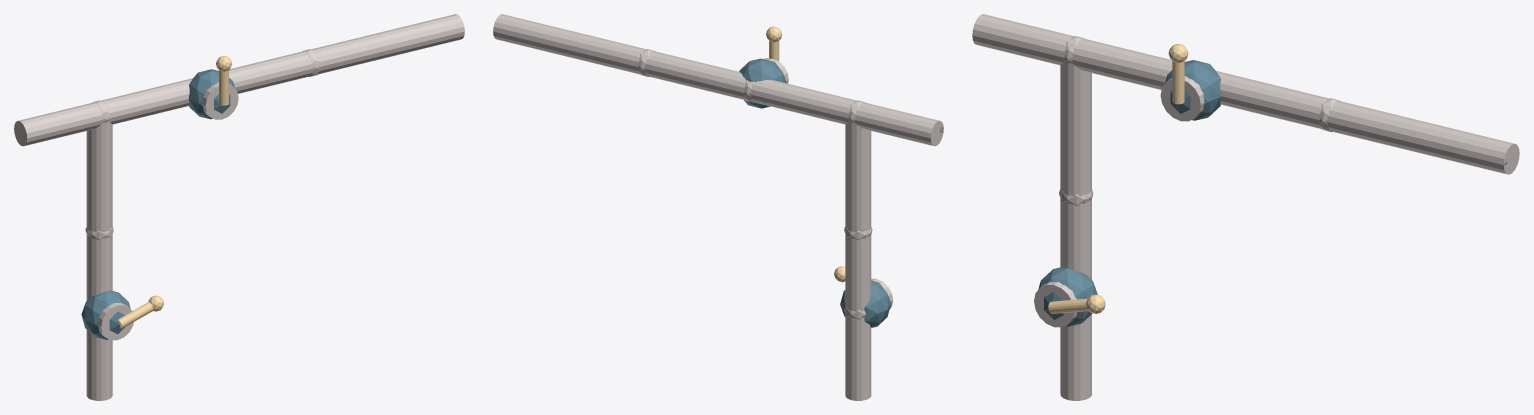
File: plant-01-0.glb
The picture shows the model from 3 angles, left to right: view 1: azimuth 30°, elevation 25°; view 2: azimuth 150°, elevation 25°; view 3: azimuth 330°, elevation 25°; orthographic projection. The views are drawn at different scales.
Parts seen in each view (by area): view 1: pipe, dark, handle; view 2: pipe, dark, handle; view 3: pipe, dark, handle.
Boxes of the visible parts, left/top/right/bottom form: pipe: left=14, top=14, right=464, bottom=400; dark: left=23, top=69, right=234, bottom=339; handle: left=118, top=56, right=231, bottom=328; pipe: left=493, top=14, right=943, bottom=400; dark: left=739, top=58, right=943, bottom=327; handle: left=766, top=26, right=845, bottom=282; pipe: left=972, top=14, right=1519, bottom=400; dark: left=1038, top=60, right=1507, bottom=326; handle: left=1048, top=43, right=1188, bottom=313.
Size of the model in its own units: 2.77 by 1.99 by 0.343.
